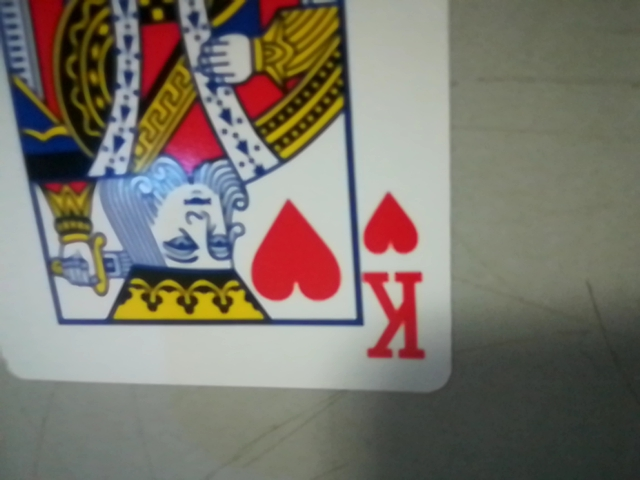hx k: (351, 181, 444, 377)
